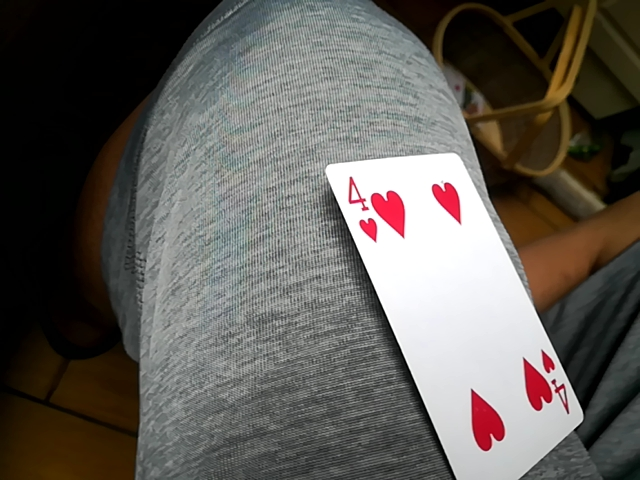hx 4: (319, 145, 581, 478)
